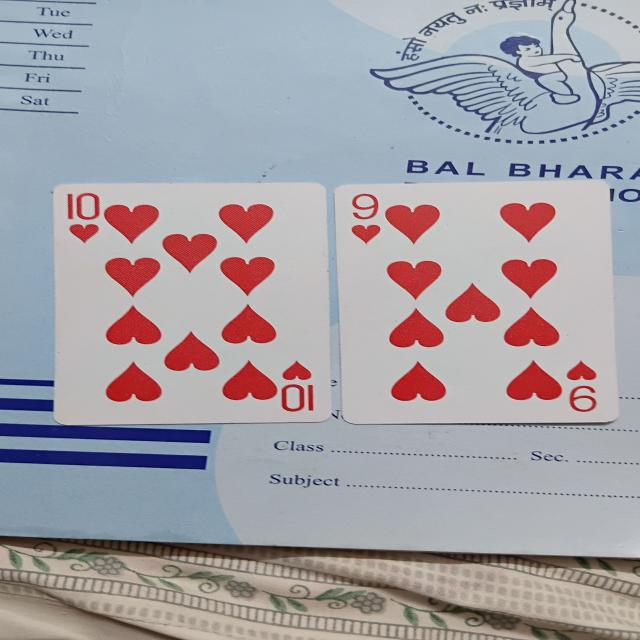10H: (54, 178, 328, 427)
9H: (340, 182, 613, 423)
